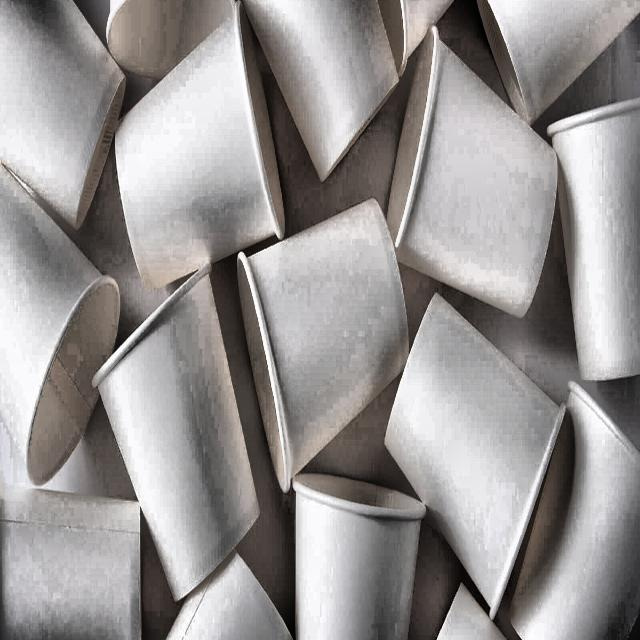Cup: (94, 258, 281, 594), (228, 194, 424, 503), (390, 281, 568, 620), (381, 29, 570, 344), (112, 0, 292, 267), (289, 457, 426, 640)
